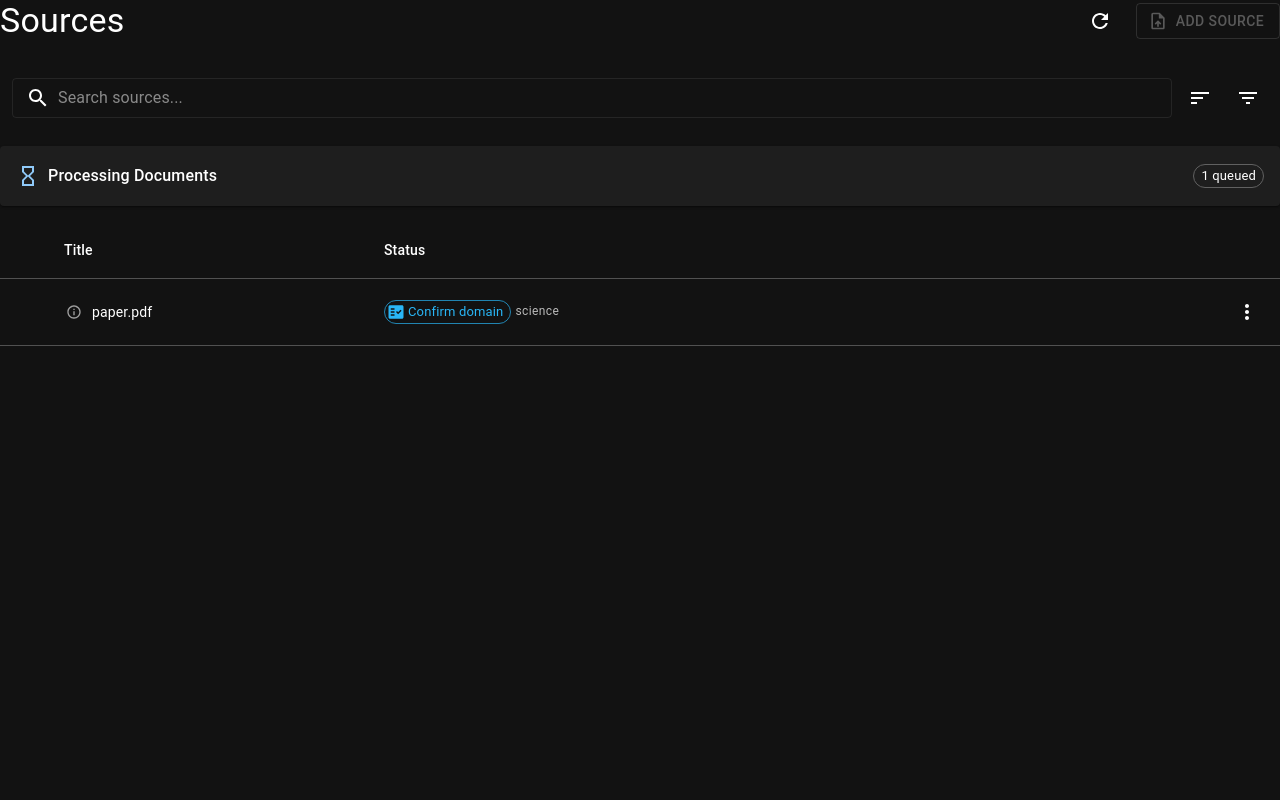
Scenario: SourcesPage — single confirm flow › clicking the Confirm domain chip opens ConfirmExtractionDialog
Step 1. Click the button "Confirm domain" → point(448, 312), box [384,300,511,324]
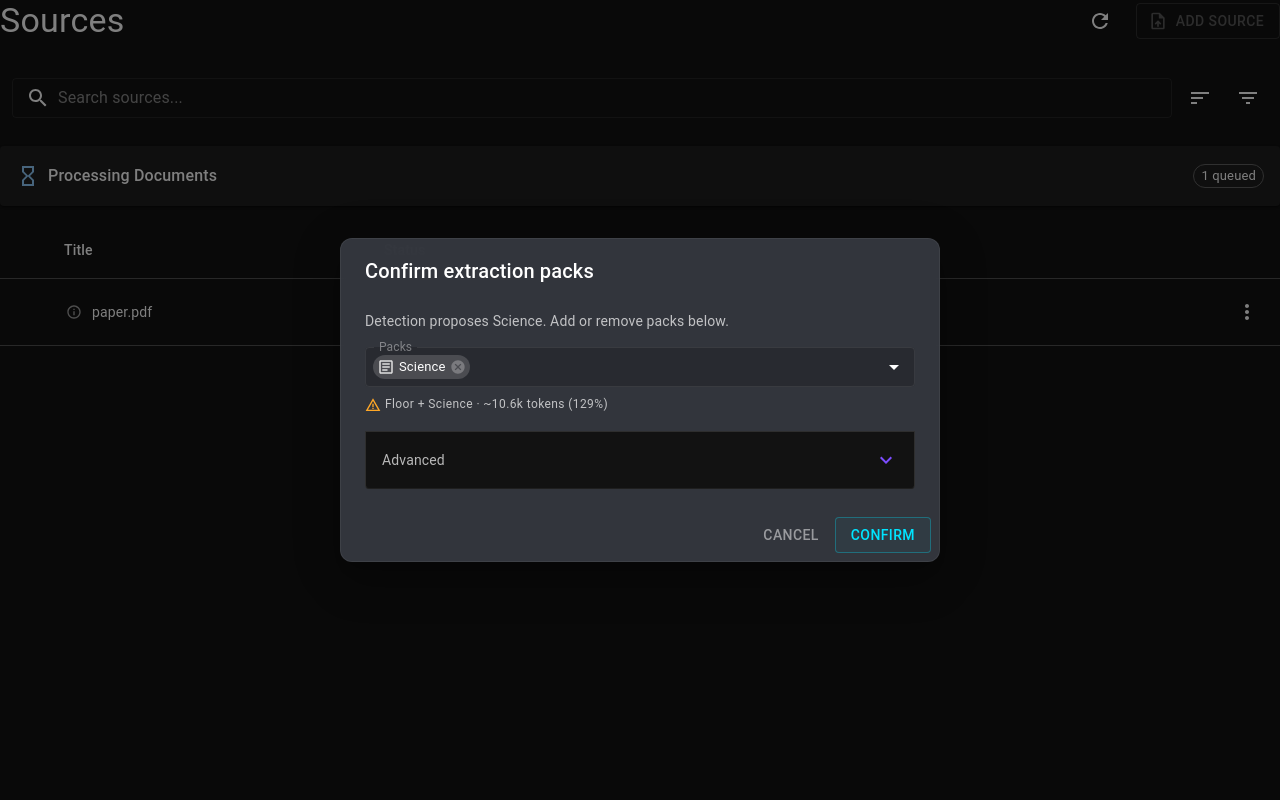
Expected: the text "science" is shown, [515,302,559,322]
Result: the dialog is shown at [340,238,940,562]
